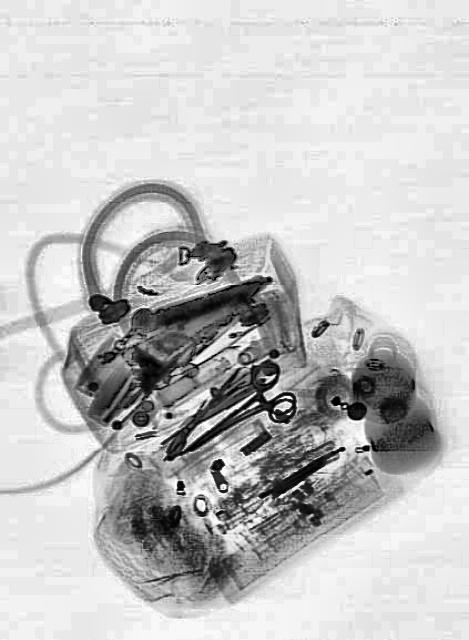Scissors: (172, 351, 300, 481)
